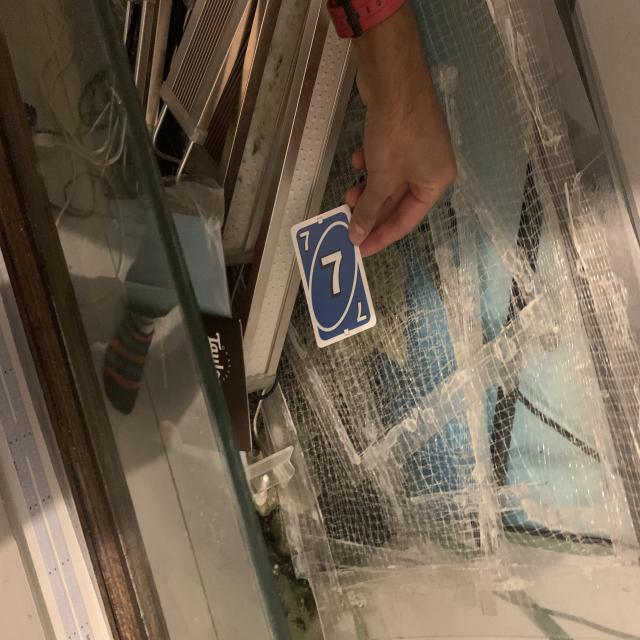lblue-7: (296, 227, 315, 255)
